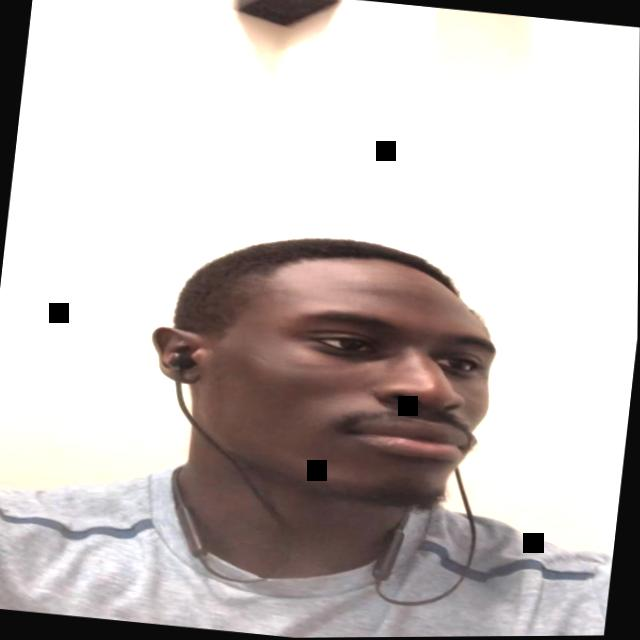NO-Mask: (154, 240, 511, 522)
